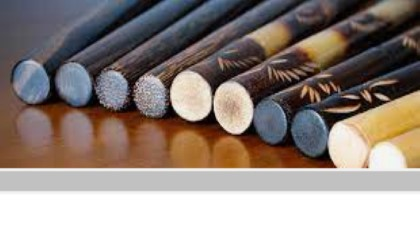baston_v: (5, 37, 55, 108), (169, 57, 216, 126), (366, 118, 420, 171), (212, 74, 253, 140), (128, 61, 172, 122), (93, 50, 133, 114), (55, 48, 96, 110), (327, 114, 367, 176), (253, 83, 289, 151), (291, 104, 327, 164)
